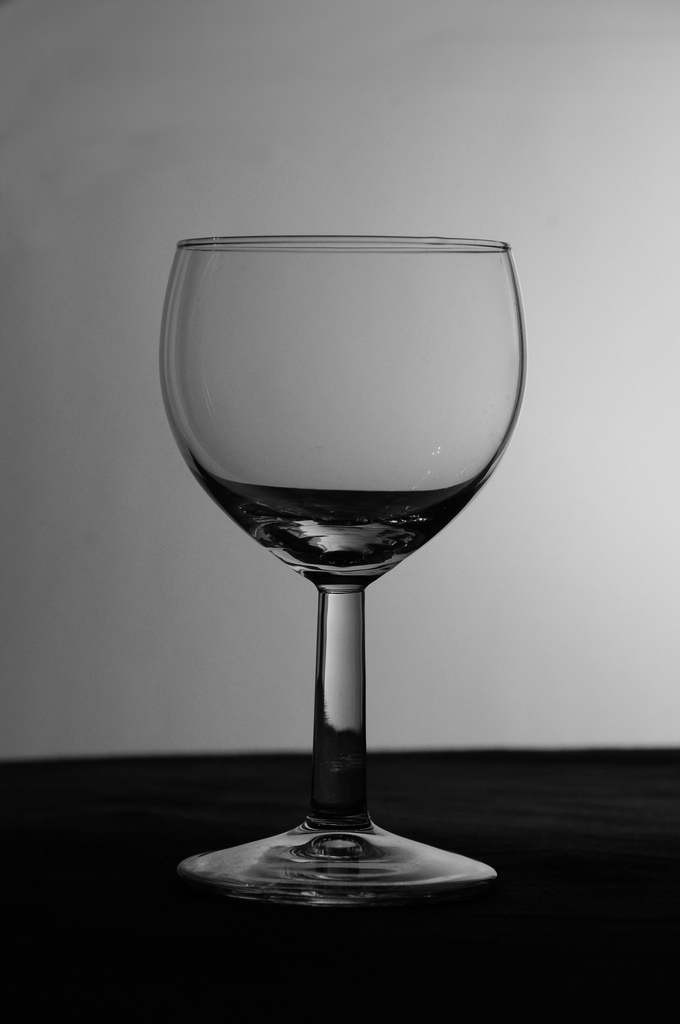glass of water: (167, 223, 493, 890)
